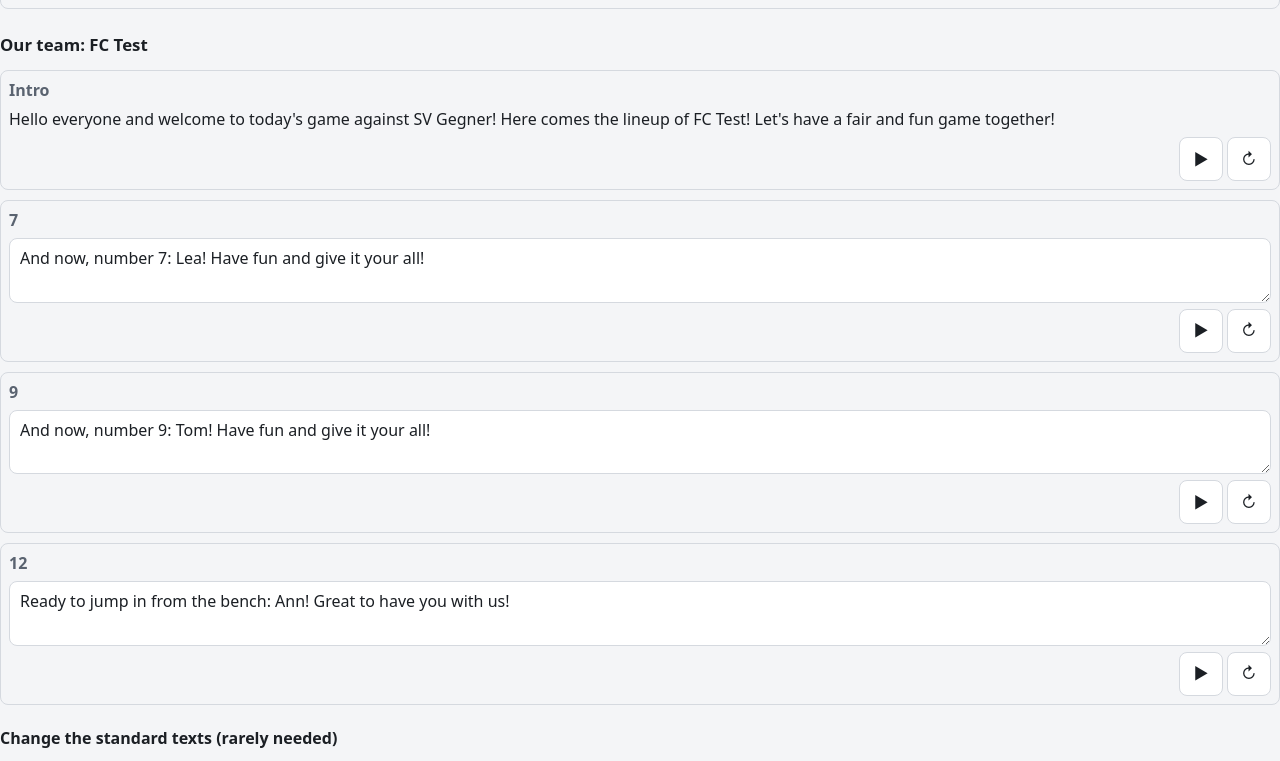
Test: guest team announcements › the guest intro template is editable
The image size is (1280, 761).
(page scrolled)
Click the heading "Change the standard texts (rarely needed)": point(169, 738) [0, 727, 337, 749]
(page scrolled)
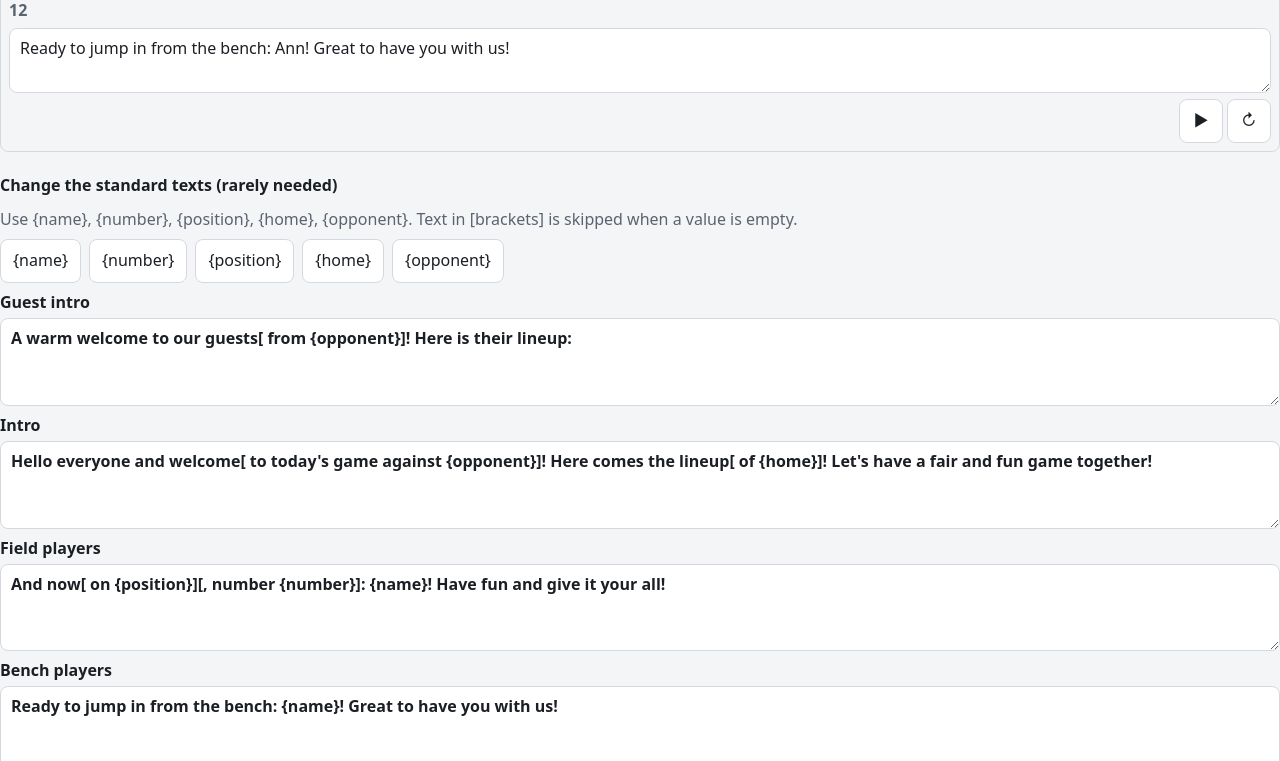
Now the text box labelled "Guest intro" holds "A warm welcome to our guests[ from {opponent}]! Here is their lineup:", box [0, 318, 1279, 406]
